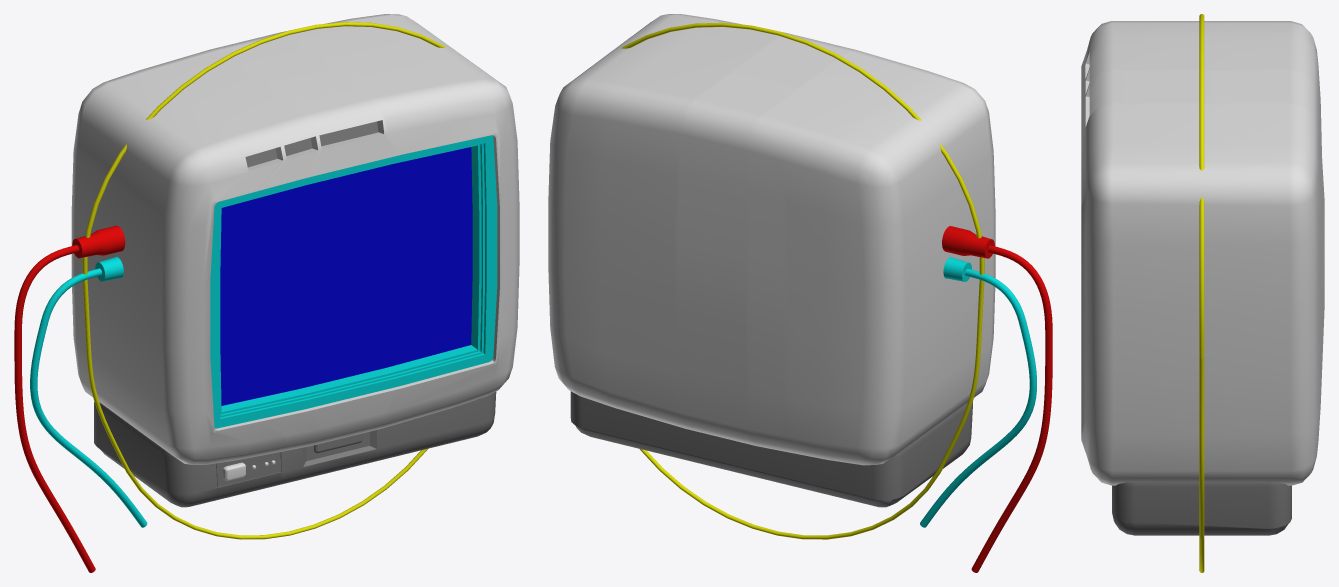
Rendered from Heart Rate Machine.fbx.
3 views of the same model, side by side, from view 1: azimuth 30°, elevation 25°; view 2: azimuth 150°, elevation 25°; view 3: azimuth 270°, elevation 25° (orthographic).
Visible parts, largest first — view 1: Shin_Clap_Machine; view 2: Shin_Clap_Machine; view 3: Shin_Clap_Machine.
Boxes of the visible parts, x1,y1,x2,y2 form: Shin_Clap_Machine: (14, 14, 519, 572); Shin_Clap_Machine: (548, 14, 1052, 572); Shin_Clap_Machine: (1081, 14, 1324, 572).
Bounding box in the file's own units: 12.28 × 12 × 5.19.
